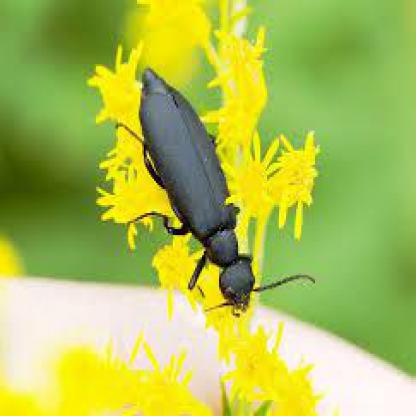blister beetle: (138, 71, 258, 313)
